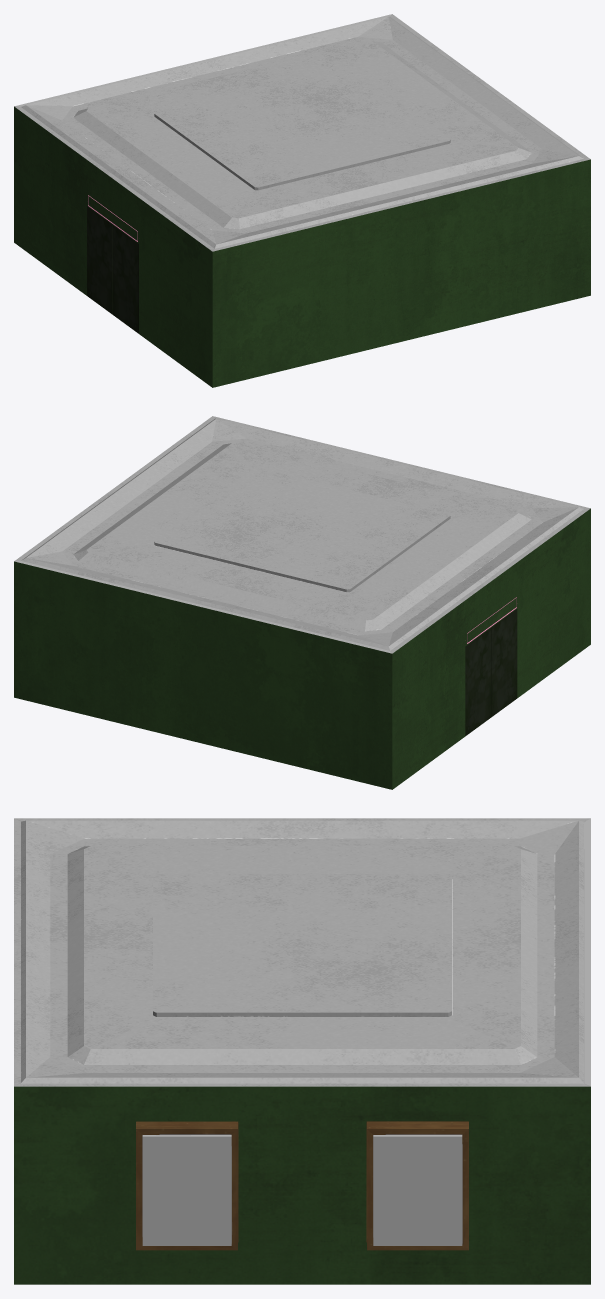
Rendered from DonRoom.fbx.
3 views of the same model, one above another, from view 1: azimuth 30°, elevation 25°; view 2: azimuth 150°, elevation 25°; view 3: azimuth 270°, elevation 25° (orthographic). The views are drawn at different scales.
Parts seen in each view (by area): view 1: Plane.002, Plane.001, Двери.001, Двери.006; view 2: Plane.002, Plane.001, Двери.001, Двери.006; view 3: Plane.001, Plane.002, Plane.005.
Boxes of the visible parts, bbox=[...] form: Plane.002: bbox=[14, 106, 590, 387]; Plane.001: bbox=[14, 14, 590, 251]; Двери.001: bbox=[113, 225, 138, 333]; Двери.006: bbox=[87, 206, 112, 314]; Plane.002: bbox=[14, 508, 590, 789]; Plane.001: bbox=[14, 416, 590, 653]; Двери.001: bbox=[491, 609, 517, 717]; Двери.006: bbox=[465, 628, 490, 736]; Plane.001: bbox=[14, 818, 590, 1086]; Plane.002: bbox=[14, 1086, 590, 1284]; Plane.005: bbox=[136, 1121, 468, 1250].
Bounding box in the file's own units: 911 × 317 × 800.
